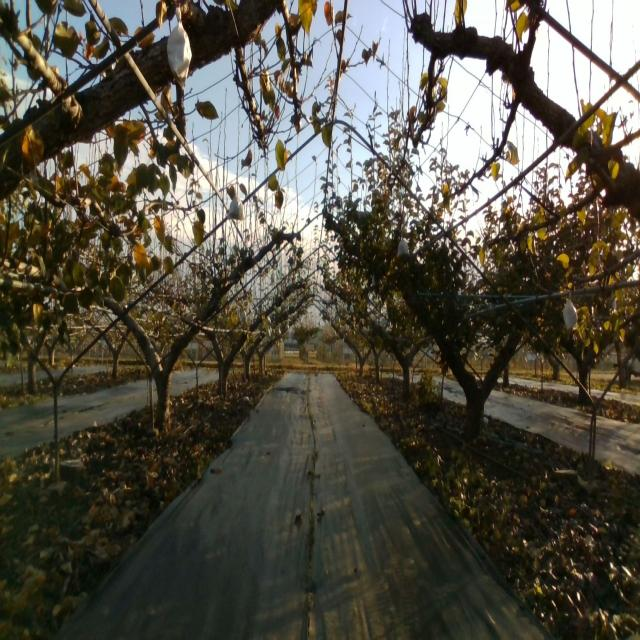pearbags: (167, 7, 192, 91), (562, 298, 578, 332), (227, 194, 245, 222), (396, 239, 409, 259)
